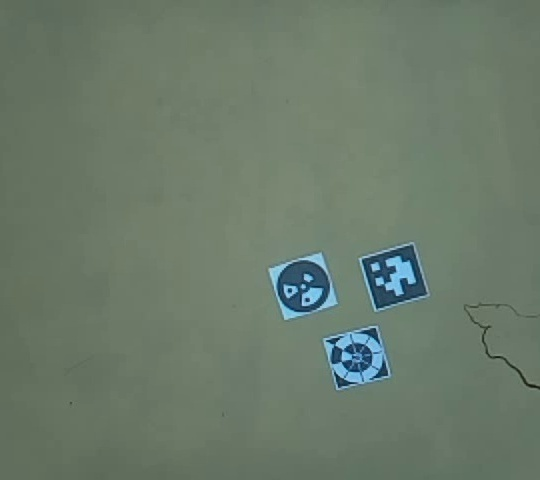landing-zone: (322, 324, 393, 391)
